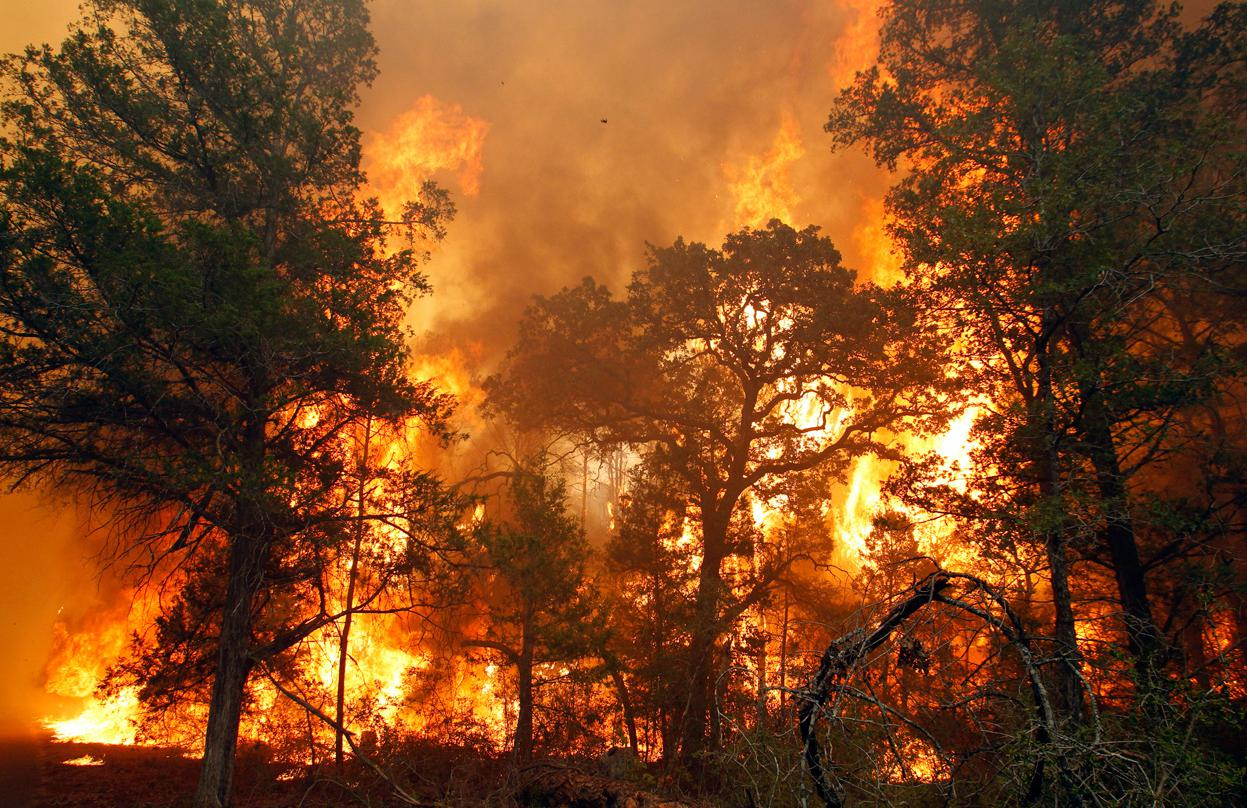fire: (653, 329, 1041, 776), (282, 105, 525, 761), (845, 3, 1002, 303), (46, 500, 213, 761), (709, 116, 807, 265)
